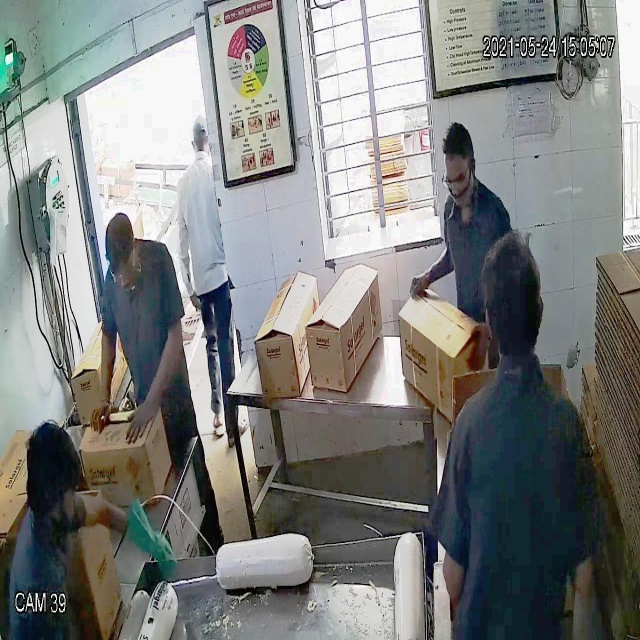Gafas: (439, 165, 474, 197), (104, 258, 139, 287)
